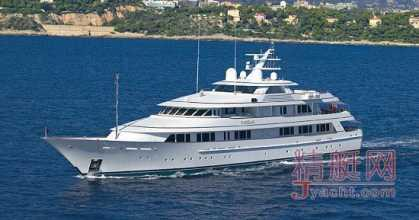yacht: (28, 41, 384, 180)
